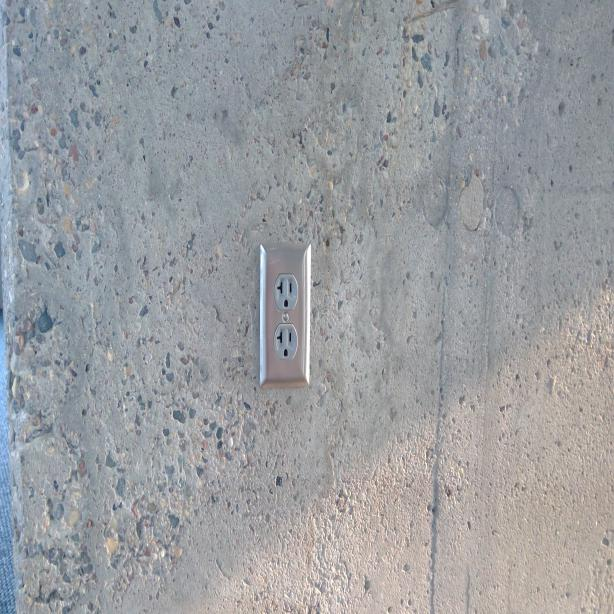typeb: (274, 273, 299, 313), (274, 323, 297, 361)
